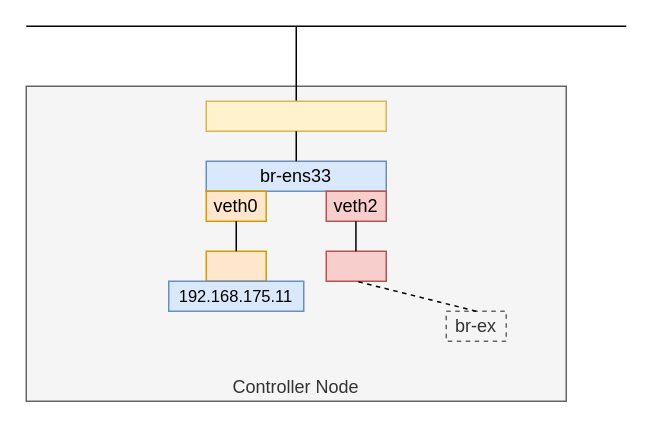
Some shapes in this 654 by 428 pixel diagram are drawn without their labels. The centre of each missing label's shape, as x and y in pixels:
ens33: the point at 295,115
veth1: the point at 235,265
veth3: the point at 355,265
